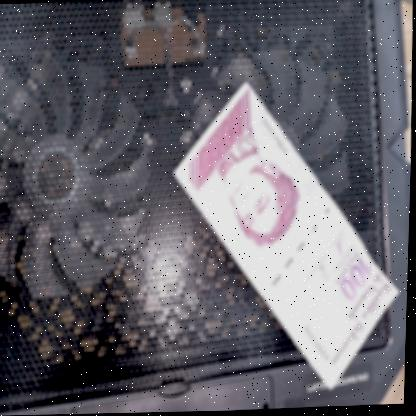one_hundred-front-vef: (166, 76, 407, 396)
